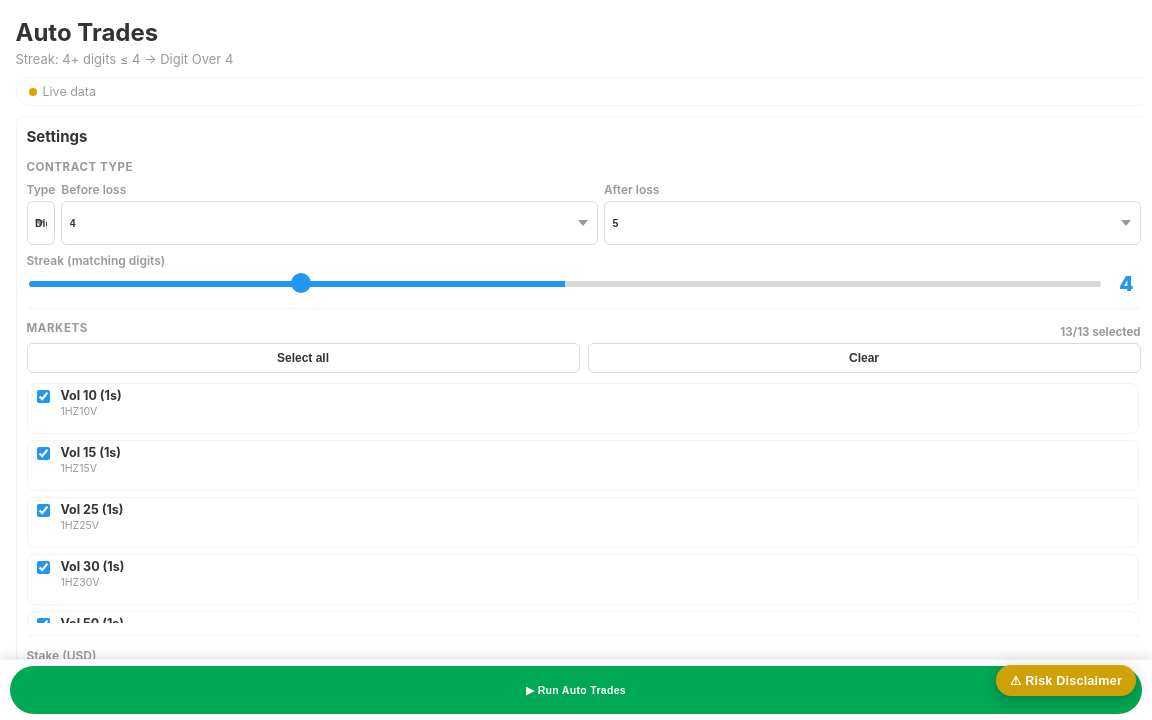
Test: <AutoTrades /> › keeps live quotes flowing after stopping auto trades
This screenshot has width=1152, height=720.
Click the button "▶ Run Auto Trades" at [576, 690], box left=10, top=666, right=1142, bottom=714
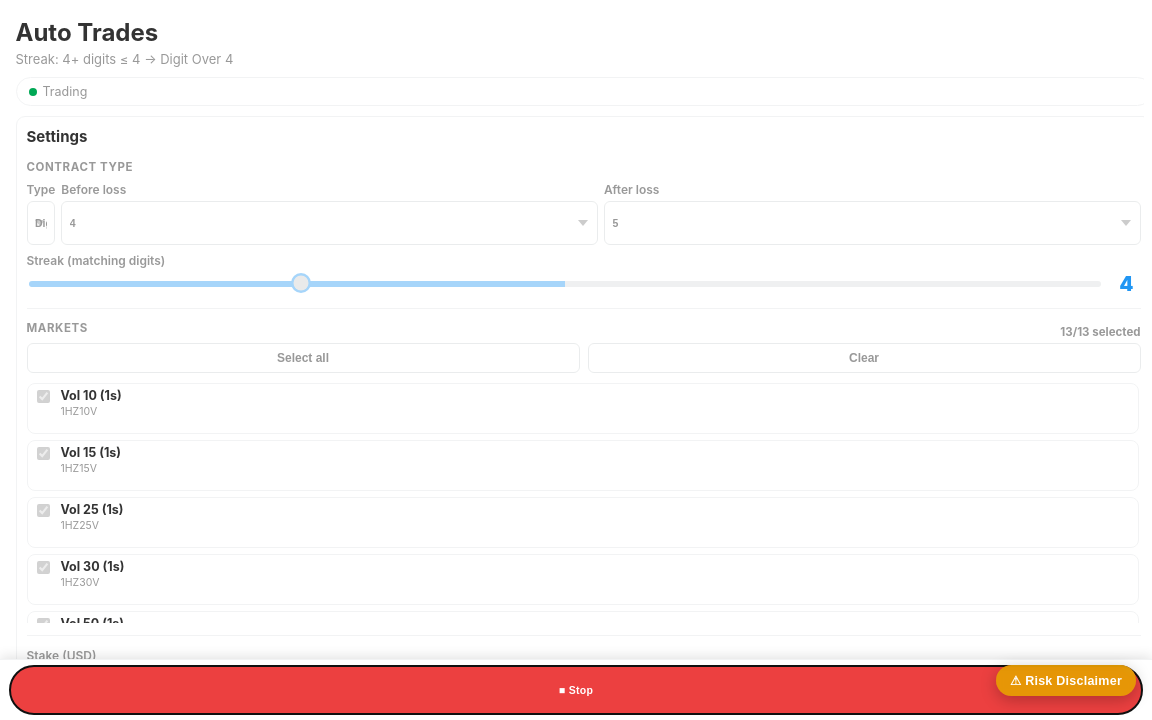
Click the button "■ Stop" at [576, 690], box left=10, top=666, right=1142, bottom=714
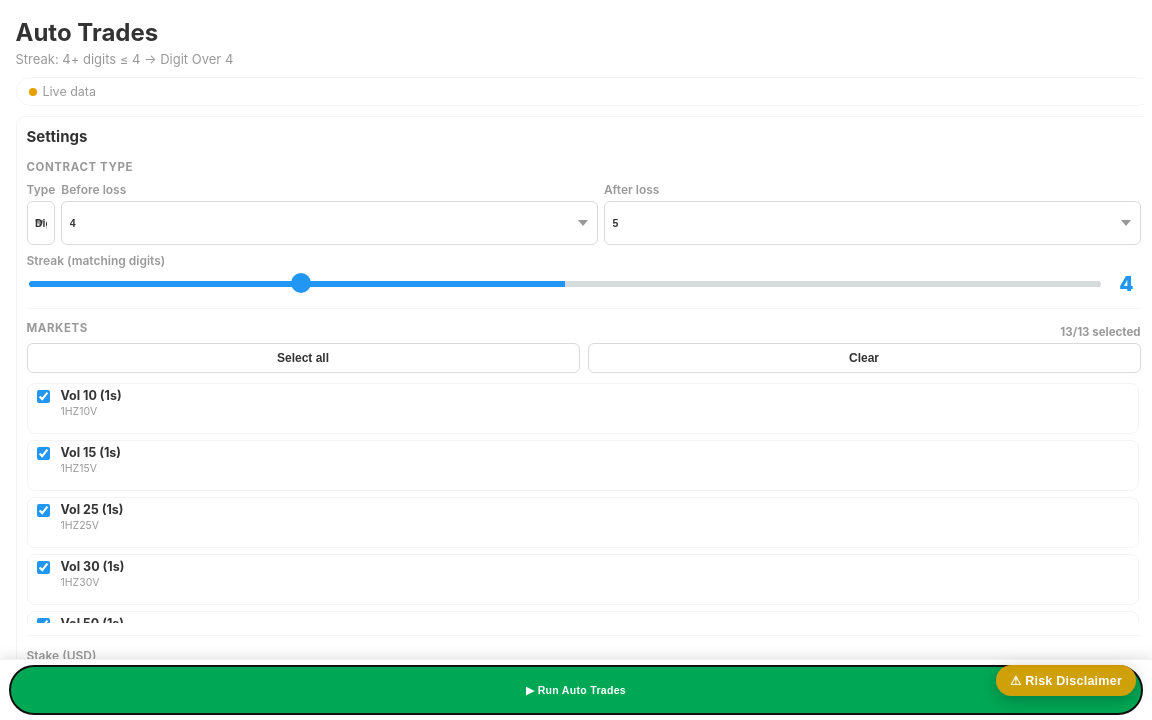
Expected: the text "Live data" is shown, left=42, top=84, right=96, bottom=99
